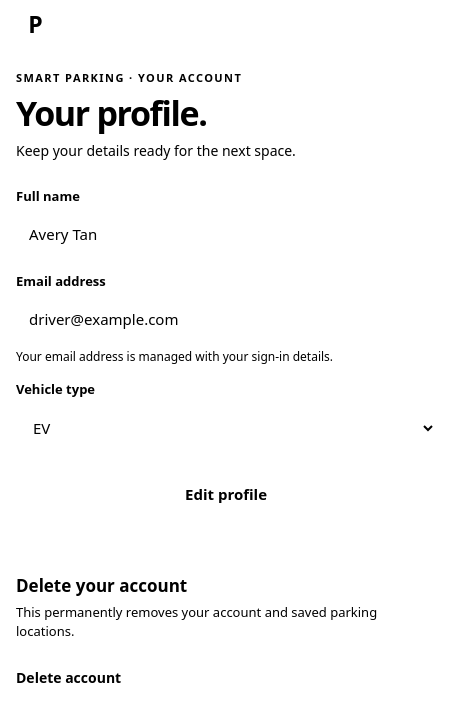
Test: ProfilePage › keeps the edit form and entered values after a failed update
Expected: the field showing "Avery Tan" is shown, [16,212,436,258]
Click the button "Edit profile" at (226, 495), box [16,471,436,519]
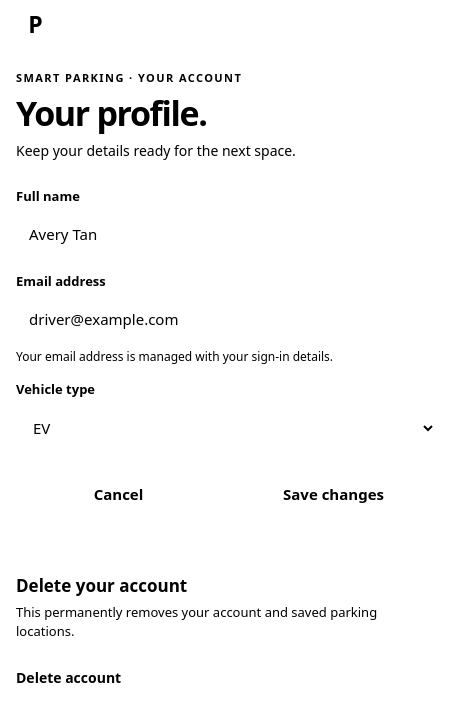
Replace the text in the field labelled "Full name" with "Avery Lee" at (226, 235), box [16,212,436,258]
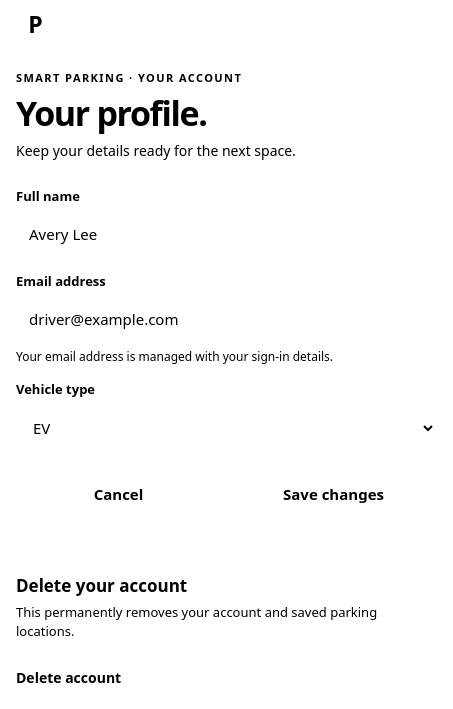
Click the button "Save changes" at (334, 495), box [231,471,436,519]
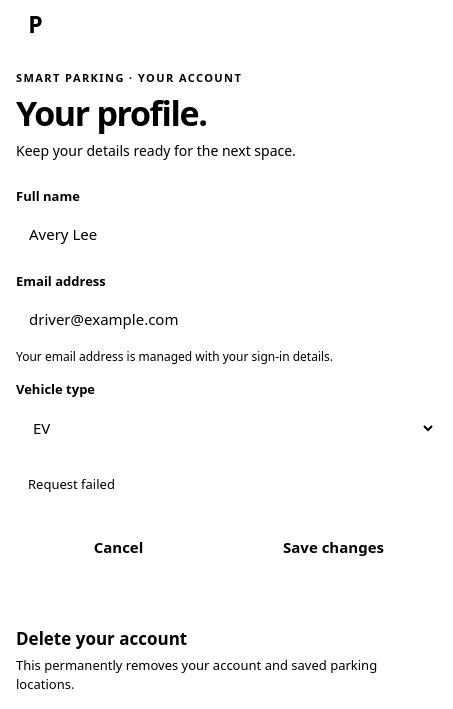
Expected: the button "Save changes" is enabled, [231,524,436,572]
Expected: the message reads "Request failed", [28,475,115,493]
